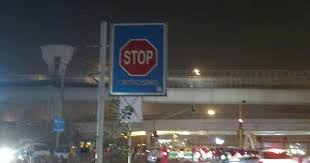stop: (112, 22, 165, 94)
